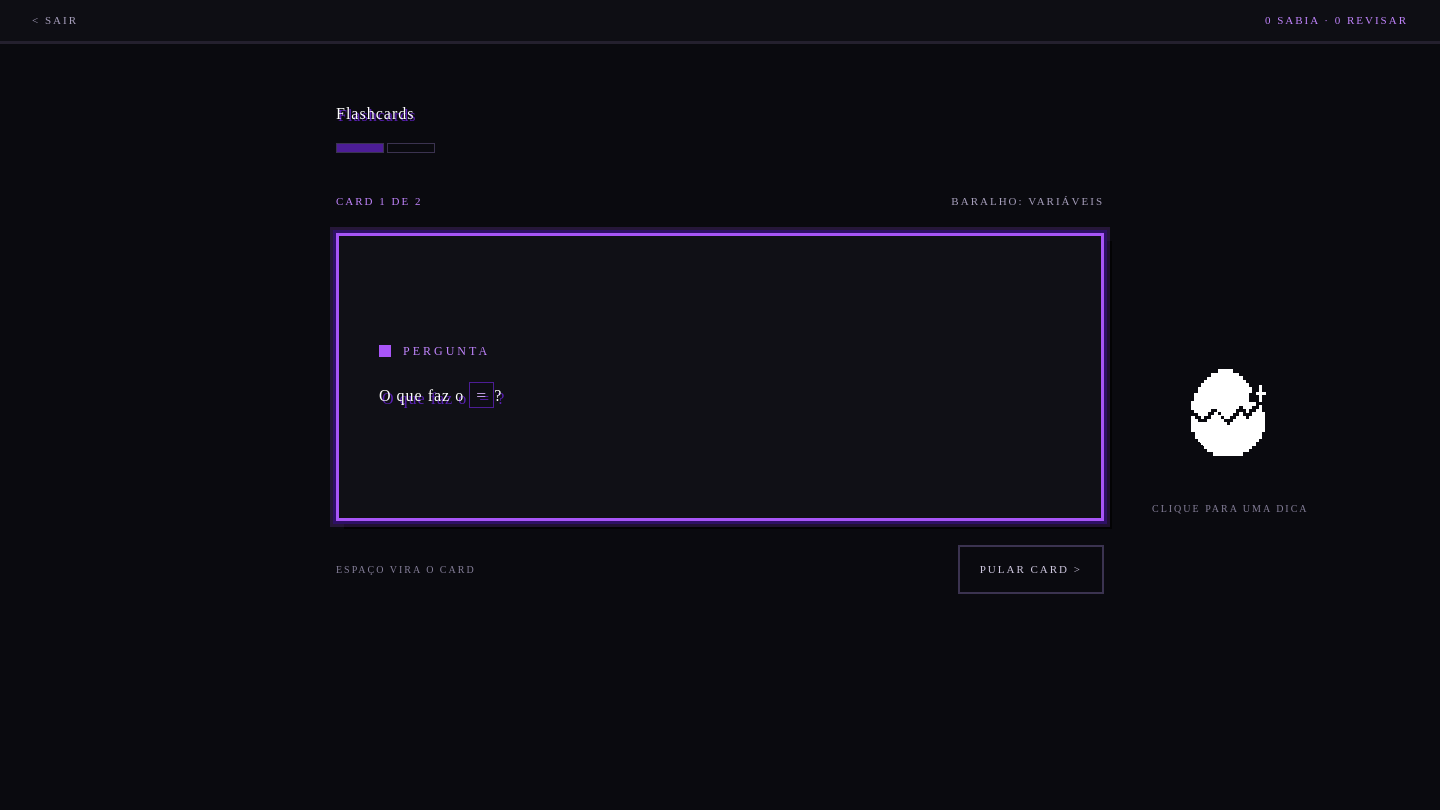
Test: SessaoFlashcards › o pet dá a dica do card e fecha ao trocar de card
Click the button named "Pedir uma dica". click: [1227, 413]
box: left=1152, top=338, right=1302, bottom=488
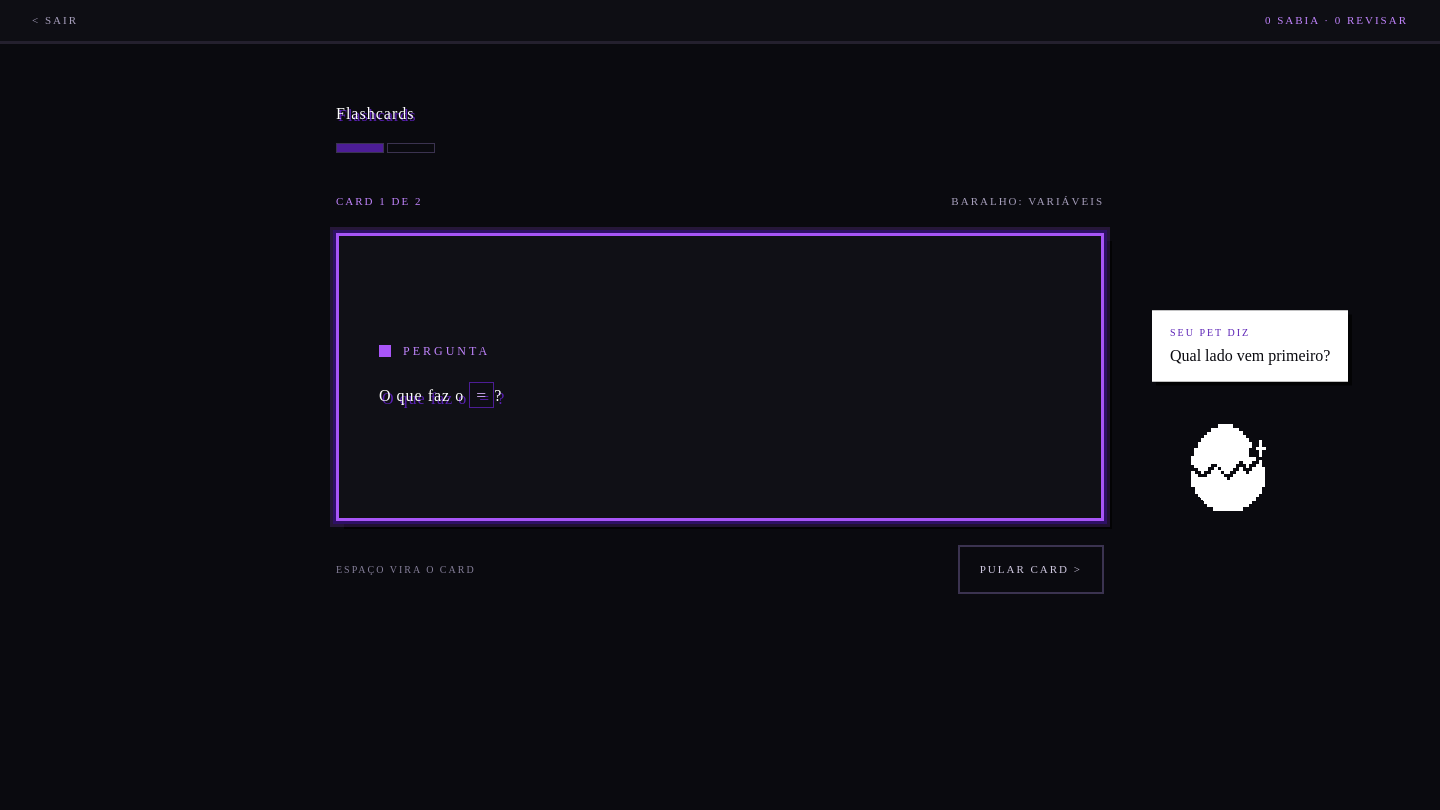
Now the text "Qual lado vem primeiro?" is shown, box left=1170, top=346, right=1330, bottom=363
Click the button "Pular card >". click: [1031, 569]
box: left=958, top=545, right=1104, bottom=594
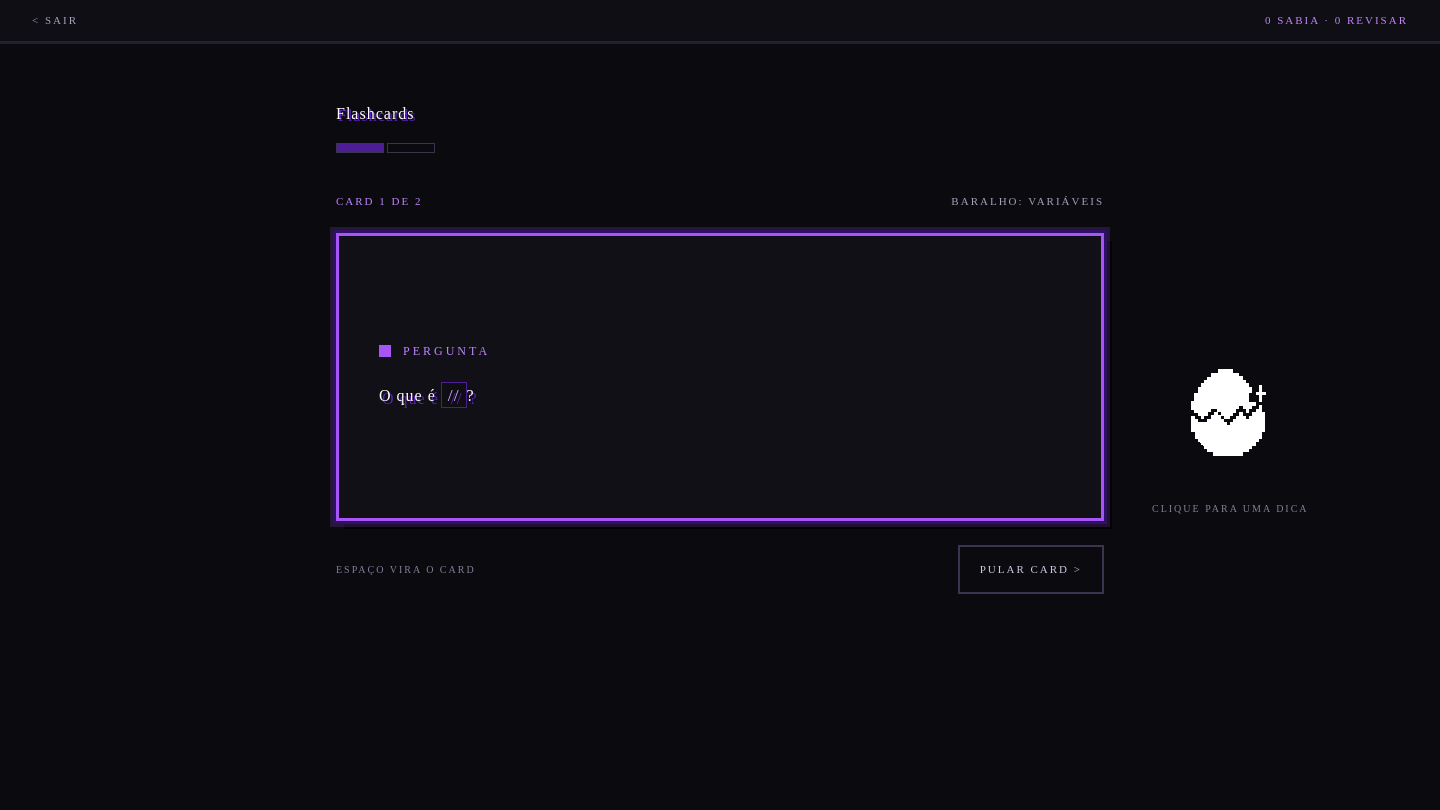
Now the text "Qual lado vem primeiro?" is gone
Click the button named "Pedir uma dica". click: [1227, 413]
box: left=1152, top=338, right=1302, bottom=488
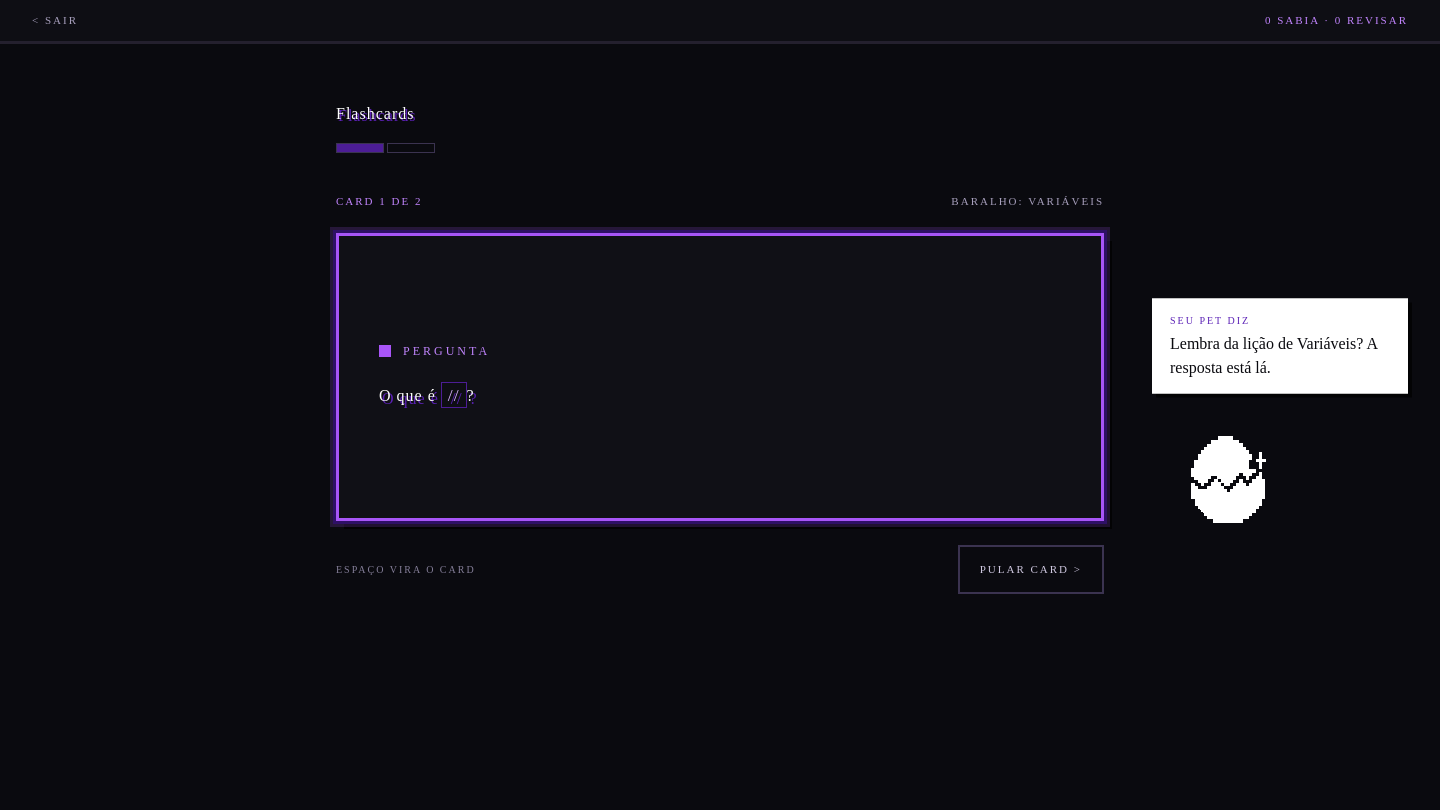
Now the text "Lembra da lição de Variáveis? A resposta está lá." is shown, box left=1170, top=334, right=1377, bottom=375
